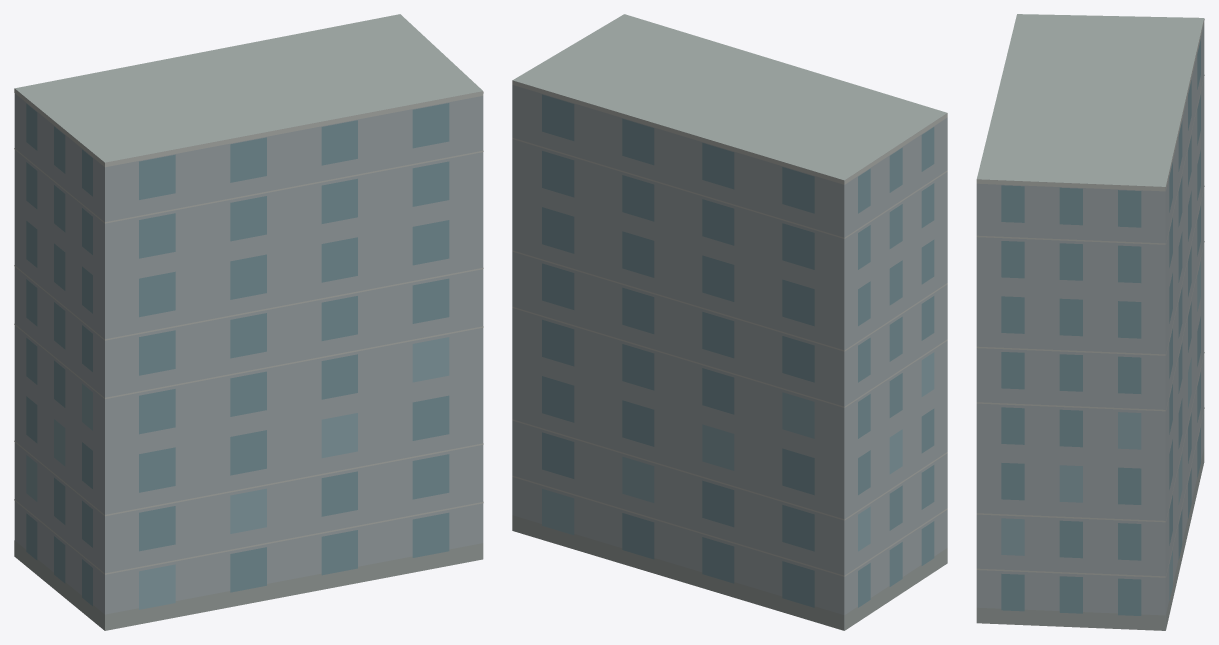
Rendered from survey-upis-32575543.glb.
3 renders of one model, left to right at view 1: azimuth 30°, elevation 25°; view 2: azimuth 150°, elevation 25°; view 3: azimuth 270°, elevation 25°, orthographic. The views are drawn at different scales.
Parts seen in each view (by area): view 1: survey-upis-32575543.tmp; view 2: survey-upis-32575543.tmp; view 3: survey-upis-32575543.tmp.
Boxes of the visible parts, left/top/right/bottom form: survey-upis-32575543.tmp: left=14, top=14, right=483, bottom=630; survey-upis-32575543.tmp: left=512, top=14, right=947, bottom=630; survey-upis-32575543.tmp: left=976, top=14, right=1204, bottom=630.
Bounding box in the file's own units: 20.41 × 24.4 × 11.36.
